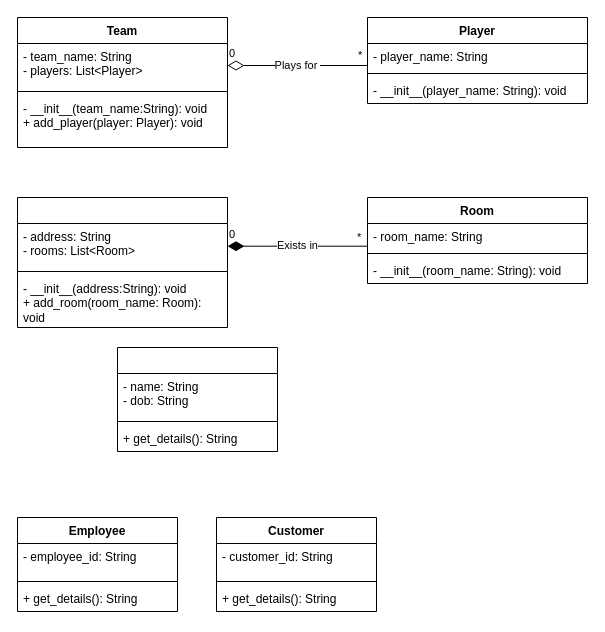
This 605x632 diagram has some shape labels left out. The shapes that lost their labels are listed below. From the top down, each one's box as (x1, y1, x2, y2) in pixels, then its label:
(16, 196, 228, 328): House
(116, 346, 278, 452): Person
